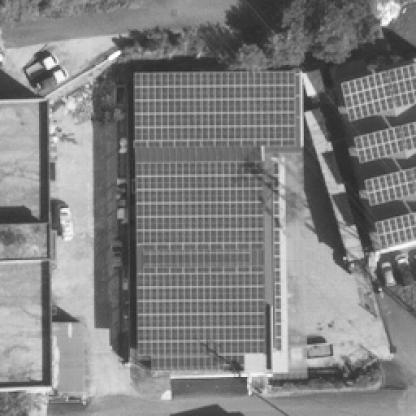solar-pv-panel: (137, 266, 266, 370), (133, 71, 296, 146), (134, 161, 264, 250), (341, 61, 416, 121), (354, 122, 416, 163), (364, 166, 416, 207), (271, 161, 282, 350), (375, 210, 416, 248), (143, 253, 250, 263)
